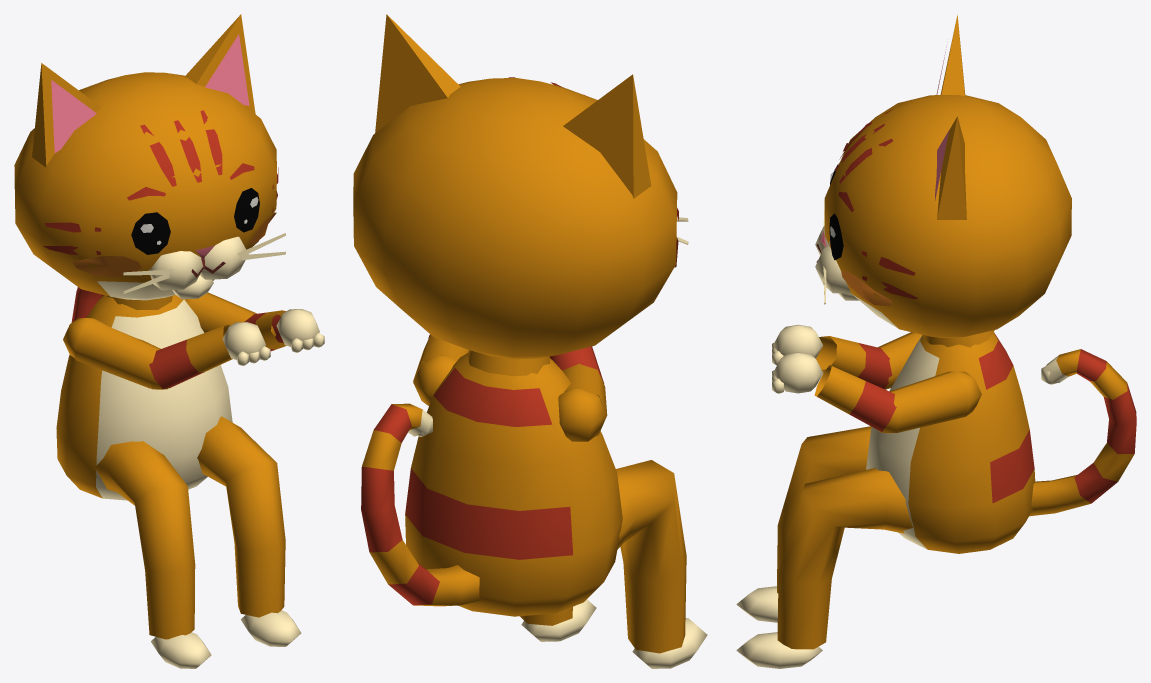
Rendered from rower-ginger.glb.
3 renders of one model, left to right at view 1: azimuth 30°, elevation 25°; view 2: azimuth 150°, elevation 25°; view 3: azimuth 270°, elevation 25°, orthographic. The views are drawn at different scales.
Parts seen in each view (by area): view 1: head, body, fore-right, arm-right, fore-left, arm-left, tail; view 2: head, body, tail, arm-right, arm-left, fore-right; view 3: head, body, tail, fore-left, arm-left, fore-right, arm-right.
Part boxes in pixels (x1,y1,x2,y2): head: (14, 14, 285, 300); body: (56, 295, 301, 668); fore-right: (149, 322, 270, 388); arm-right: (63, 318, 169, 389); fore-left: (244, 309, 324, 352); arm-left: (186, 292, 276, 337); tail: (71, 287, 103, 322); head: (353, 14, 688, 359); body: (405, 350, 707, 668); tail: (361, 403, 481, 606); arm-right: (558, 363, 607, 441); arm-left: (413, 335, 468, 405); fore-right: (549, 346, 604, 383); head: (815, 14, 1071, 337); body: (736, 330, 1035, 668); tail: (1029, 349, 1136, 516); fore-left: (772, 352, 896, 431); arm-left: (878, 371, 981, 433); fore-right: (772, 324, 892, 388); arm-right: (878, 332, 921, 389).
Size of the model in its own units: 0.5242 by 1.17 by 0.7368.
